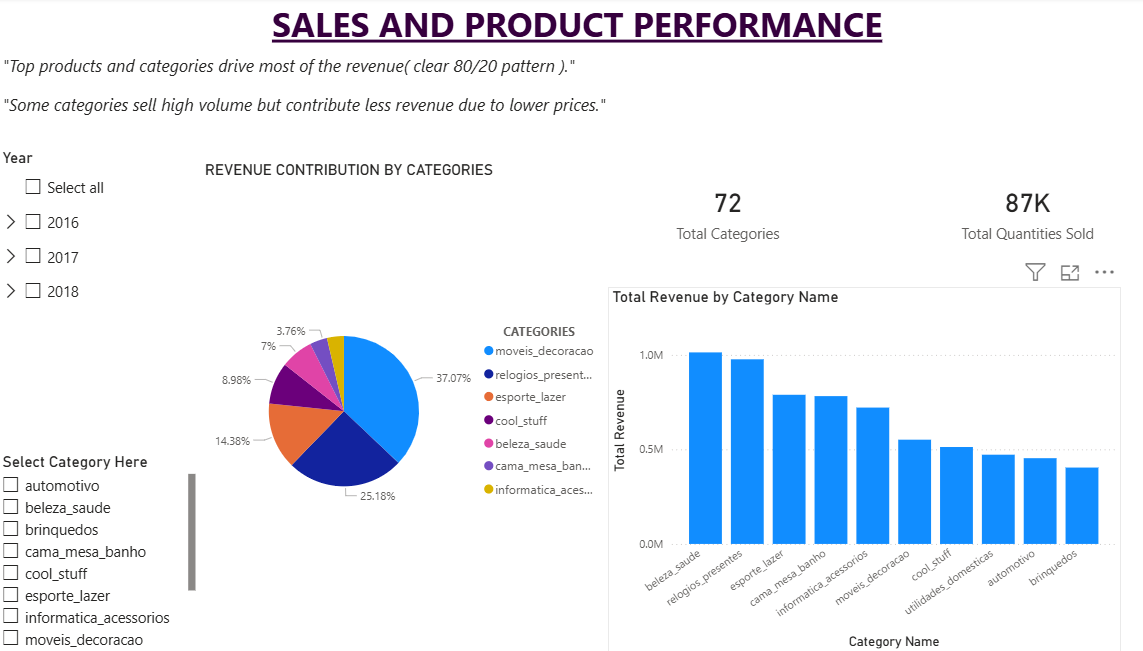

What the dashboard file says about the page in this screenshot:
{"tool":"powerbi","page":{"name":"SALES & PRODUCT PERFORMANCE","canvas":[1280,720],"ordinal":1},"visuals":[{"type":"card","fields":{"Values":["Sum(public bi_sales_product_performance_overview.total_quantity_sold)"]},"box":[981.1,179.8,299.1,109.8],"z":0},{"type":"card","fields":{"Values":["Count(public bi_sales_product_performance_overview.product_category_name)"]},"box":[621.6,179.8,359.5,109.8],"z":1000},{"type":"columnChart","fields":{"Category":["public bi_sales_product_performance_overview.product_category_name"],"Y":["Sum(public bi_sales_product_performance_overview.total_revenue)"]},"box":[669.6,318.4,562.6,402.1],"z":2000},{"type":"pieChart","title":"REVENUE CONTRIBUTION BY CATEGORIES","fields":{"Category":["public bi_sales_product_performance_overview.product_category_name"],"Y":["Max(public bi_sales_product_performance_overview.revenue_contribution_pct)"]},"box":[222.3,179.8,447.3,531],"z":3000},{"type":"textbox","box":[0,0,1280.3,57.6],"z":4000},{"type":"listSlicer","fields":{"Values":["public bi_sales_product_performance_overview.order_month.Variation.Date Hierarchy.Year","public bi_sales_product_performance_overview.order_month.Variation.Date Hierarchy.Quarter","public bi_sales_product_performance_overview.order_month.Variation.Date Hierarchy.Month","public bi_sales_product_performance_overview.order_month.Variation.Date Hierarchy.Day"]},"box":[0,166,222.3,333.4],"z":5000},{"type":"listSlicer","fields":{"Values":["public bi_sales_product_performance_overview.product_category_name"]},"box":[0,499.5,222.3,220.9],"z":6000},{"type":"textbox","box":[0,57.6,693,108.4],"z":7000}]}

Visuals, with their boxes in screenshot pixels (x1, y1, x2, y2), scaled from the page's 1280x720 canvas onto the 1143x651 screenshot:
card - Sum(public bi_sales_product_performance_overview.total_quantity_sold): l=876, t=163, r=1142, b=262
card - Count(public bi_sales_product_performance_overview.product_category_name): l=555, t=163, r=876, b=262
columnChart - public bi_sales_product_performance_overview.product_category_name x Sum(public bi_sales_product_performance_overview.total_revenue): l=598, t=288, r=1100, b=650
"REVENUE CONTRIBUTION BY CATEGORIES" pieChart: l=199, t=163, r=598, b=643
textbox: l=0, t=0, r=1142, b=52
listSlicer - public bi_sales_product_performance_overview.order_month.Variation.Date Hierarchy.Year x public bi_sales_product_performance_overview.order_month.Variation.Date Hierarchy.Quarter: l=0, t=150, r=199, b=452
listSlicer - public bi_sales_product_performance_overview.product_category_name: l=0, t=452, r=199, b=650
textbox: l=0, t=52, r=619, b=150
